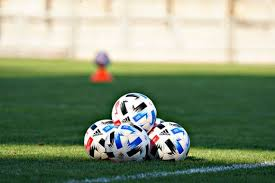football ball: (115, 92, 159, 132), (105, 127, 150, 163), (155, 123, 192, 161), (83, 120, 118, 157), (142, 114, 168, 146), (94, 52, 112, 70)
